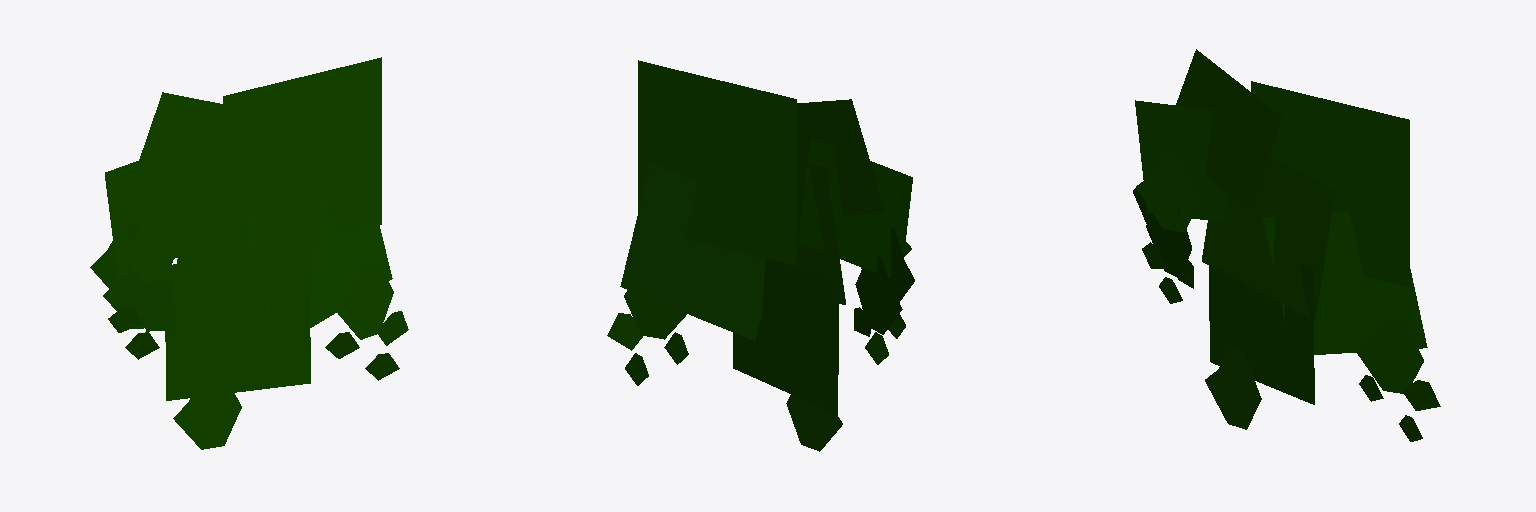
The model's file is Prop_Vine3.obj.
3 renders of one model, left to right at view 1: azimuth 30°, elevation 25°; view 2: azimuth 150°, elevation 25°; view 3: azimuth 330°, elevation 25°, orthographic.
Parts seen in each view (by area): view 1: Prop_Vine3; view 2: Prop_Vine3; view 3: Prop_Vine3.
Part boxes in pixels (x1,y1,x2,y2): Prop_Vine3: (90, 57, 408, 449); Prop_Vine3: (607, 60, 914, 451); Prop_Vine3: (1133, 49, 1440, 441).
Bounding box in the file's own units: 1.89 × 2.1 × 0.2137.